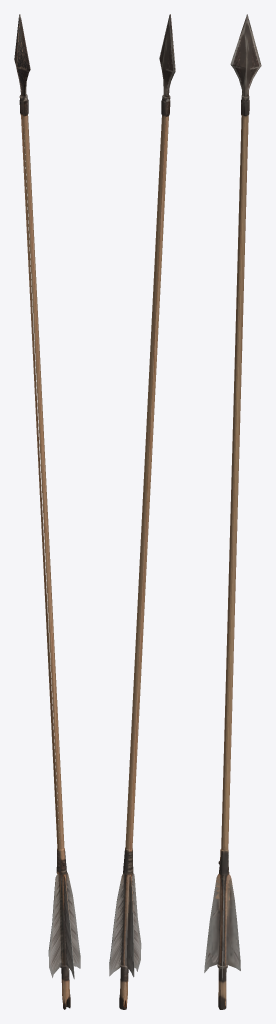
Rendered from weapon-arrow-starter-v002.glb.
The picture shows the model from 3 angles, left to right: view 1: azimuth 30°, elevation 25°; view 2: azimuth 210°, elevation 25°; view 3: azimuth 270°, elevation 25°; orthographic projection.
Visible parts, largest first — view 1: arrow-standard-body; view 2: arrow-standard-body; view 3: arrow-standard-body.
Part boxes in pixels (left/top/right/bottom): arrow-standard-body: left=14, top=14, right=80, bottom=1009; arrow-standard-body: left=109, top=14, right=175, bottom=1009; arrow-standard-body: left=204, top=14, right=261, bottom=1009.
Bounding box in the file's own units: 0.0516 × 0.94 × 0.0497.
Materials: 1 (1 with a texture image).
